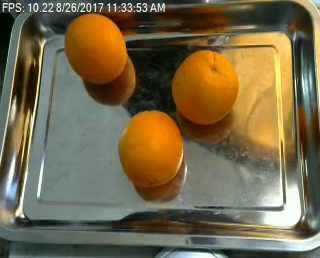Orange: (118, 110, 185, 188), (171, 48, 239, 124), (66, 13, 127, 82)
